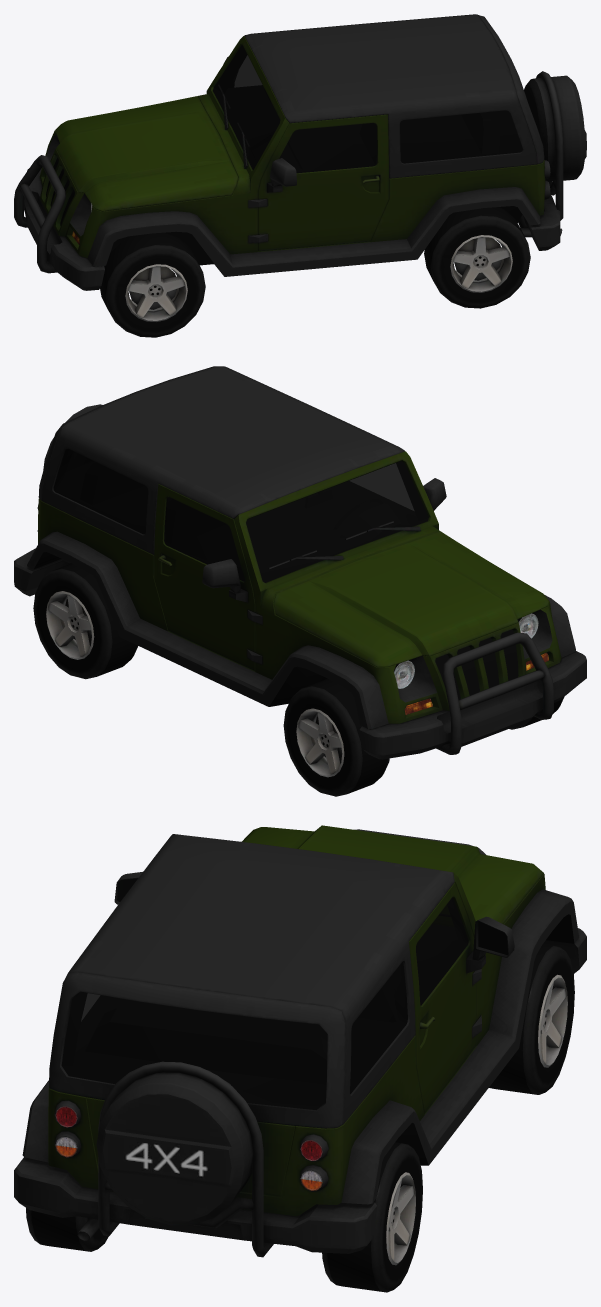
File: pack_offroad.glb
The picture shows the model from 3 angles, top to bottom: view 1: azimuth 30°, elevation 25°; view 2: azimuth 150°, elevation 25°; view 3: azimuth 270°, elevation 25°; orthographic projection. The views are drawn at different scales.
Visible parts, largest first — view 1: Offroad Body_Body_0, Wheel_G_Wheel_0, Offroad Body_Glass_0; view 2: Offroad Body_Body_0, Offroad Body_Glass_0, Wheel_G_Wheel_0, Offroad Body_Optics_0; view 3: Offroad Body_Body_0, Offroad Body_Glass_0, Wheel_G_Wheel_0, Offroad Body_Optics_0.
Part boxes in pixels (bbox=[...]): Offroad Body_Body_0: bbox=[14, 14, 586, 290]; Wheel_G_Wheel_0: bbox=[100, 207, 530, 337]; Offroad Body_Glass_0: bbox=[213, 45, 522, 173]; Offroad Body_Body_0: bbox=[14, 366, 586, 759]; Offroad Body_Glass_0: bbox=[53, 448, 428, 582]; Wheel_G_Wheel_0: bbox=[33, 563, 564, 796]; Offroad Body_Optics_0: bbox=[394, 613, 548, 714]; Offroad Body_Body_0: bbox=[14, 825, 586, 1257]; Offroad Body_Glass_0: bbox=[61, 897, 468, 1110]; Wheel_G_Wheel_0: bbox=[26, 944, 574, 1292]; Offroad Body_Optics_0: bbox=[55, 1106, 322, 1190].
Size of the model in its own units: 3.97 by 1.57 by 2.71.
Materials: 4 (3 with a texture image).
